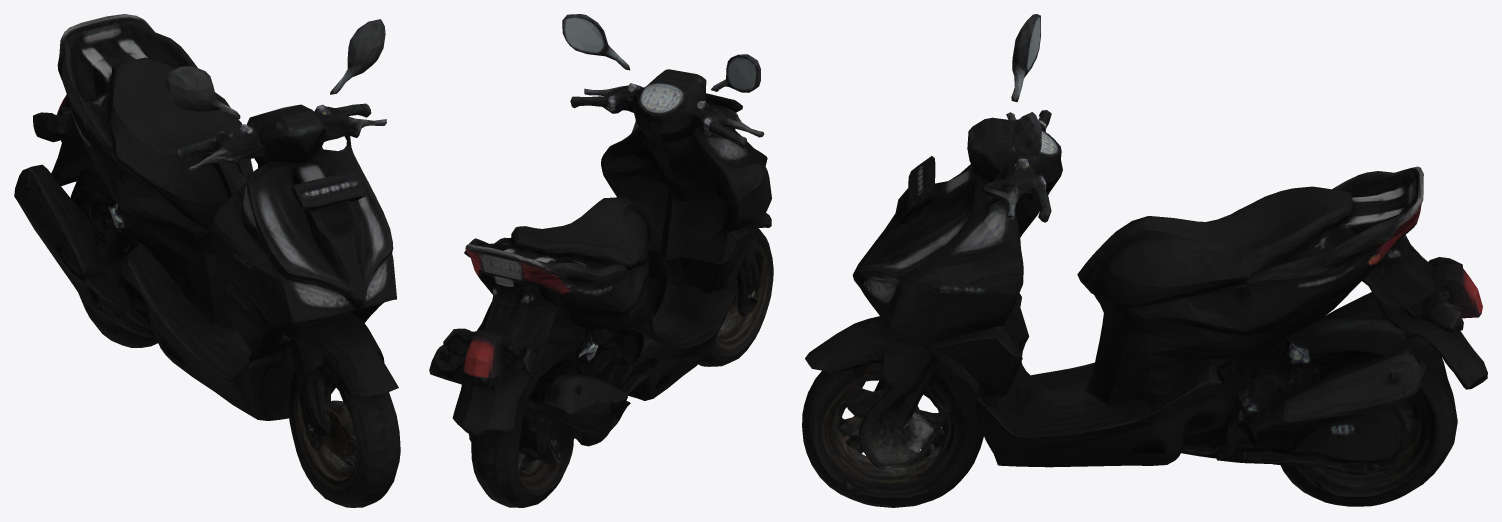
Rendered from RISE VARIO 160.glb.
3 views of the same model, side by side, from view 1: azimuth 30°, elevation 25°; view 2: azimuth 150°, elevation 25°; view 3: azimuth 270°, elevation 25° (orthographic). The views are drawn at different scales.
Parts seen in each view (by area): view 1: world; view 2: world; view 3: world.
Boxes of the visible parts, left/top/right/bottom form: world: left=14, top=14, right=400, bottom=507; world: left=429, top=14, right=773, bottom=507; world: left=802, top=14, right=1487, bottom=507.
Size of the model in its own units: 0.3949 by 0.7065 by 0.9994.
1 material, 1 textured.
